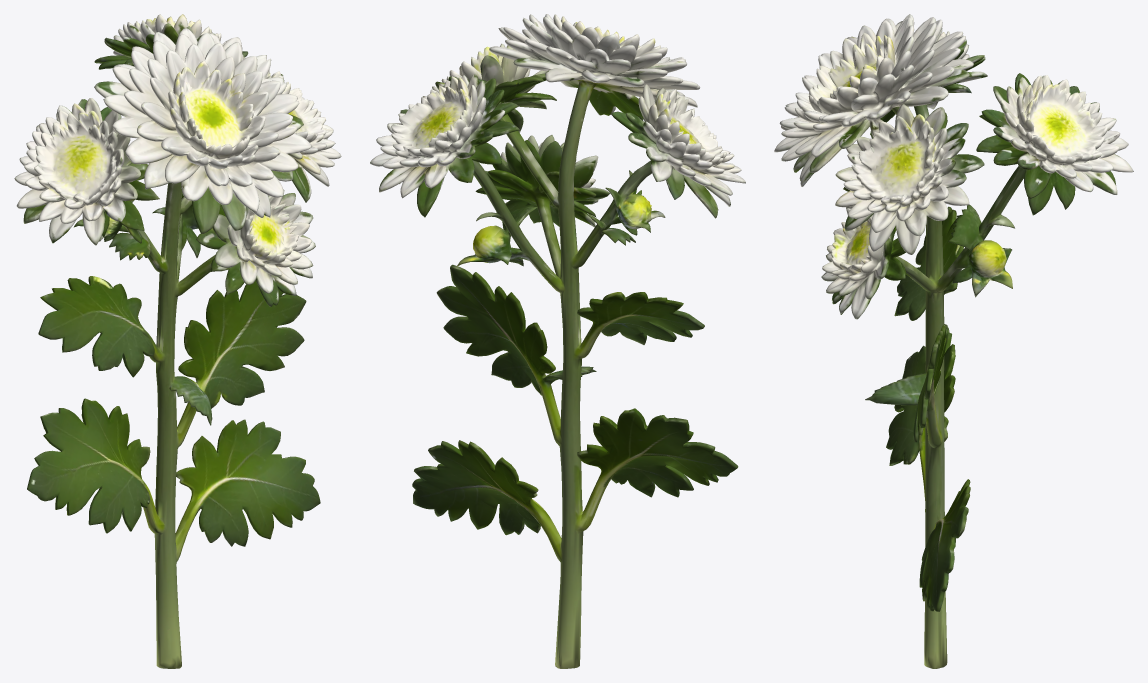
File: hangju.glb
The picture shows the model from 3 angles, left to right: view 1: azimuth 30°, elevation 25°; view 2: azimuth 150°, elevation 25°; view 3: azimuth 270°, elevation 25°; orthographic projection.
Parts seen in each view (by area): view 1: node_0; view 2: node_0; view 3: node_0.
Boxes of the visible parts, box(x1,y1,x2,y2) form: node_0: box(14, 14, 341, 668); node_0: box(370, 14, 745, 668); node_0: box(774, 14, 1133, 668).
Size of the model in its own units: 0.6151 by 1.2 by 0.6138.
1 material, 1 textured.
